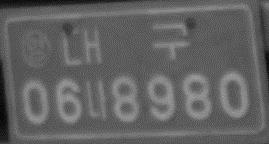0: (219, 70, 251, 117), (22, 78, 52, 126)
6: (54, 78, 84, 126)
8: (181, 71, 214, 119), (111, 74, 141, 123)
9: (146, 74, 177, 123)
나: (84, 77, 109, 122)
대구_D: (60, 20, 192, 67)
영: (19, 28, 53, 68)
